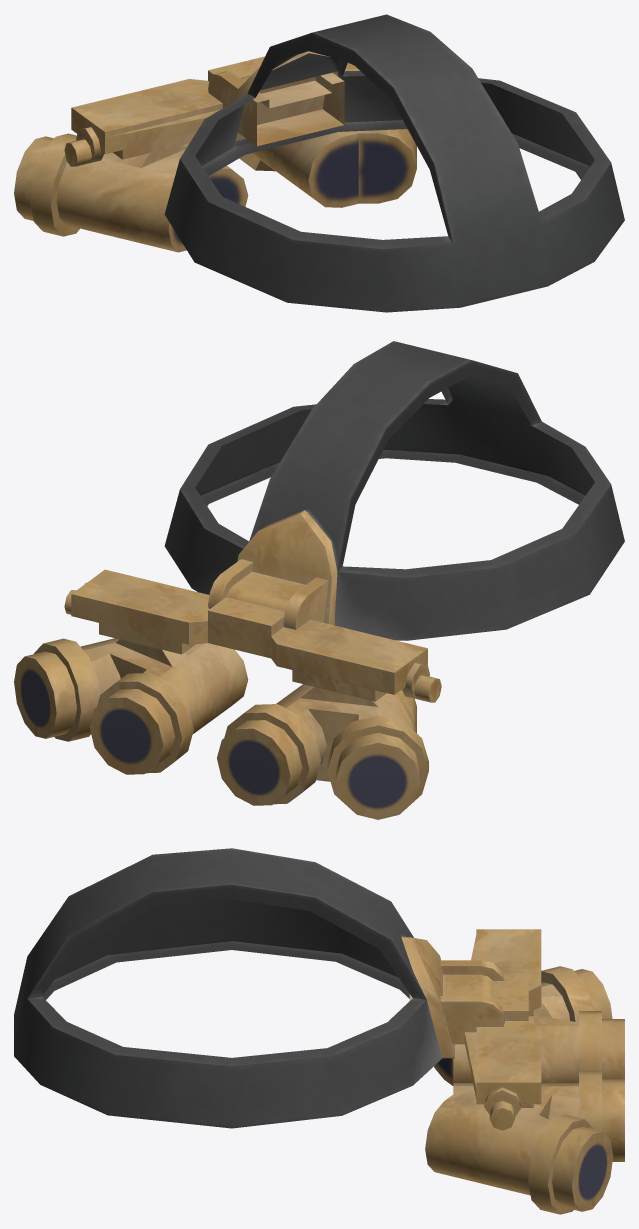
Rendered from IG_FackMask_NightVision.fbx.
3 views of the same model, one above another, from view 1: azimuth 30°, elevation 25°; view 2: azimuth 150°, elevation 25°; view 3: azimuth 270°, elevation 25° (orthographic). The views are drawn at different scales.
Visible parts, largest first — view 1: NightVision_LV3; view 2: NightVision_LV3; view 3: NightVision_LV3.
Boxes of the visible parts, x1,y1,x2,y2 form: NightVision_LV3: [14, 14, 624, 312]; NightVision_LV3: [14, 341, 624, 819]; NightVision_LV3: [14, 848, 624, 1214].
Size of the model in its own units: 0.6064 by 0.3936 by 0.8113.
